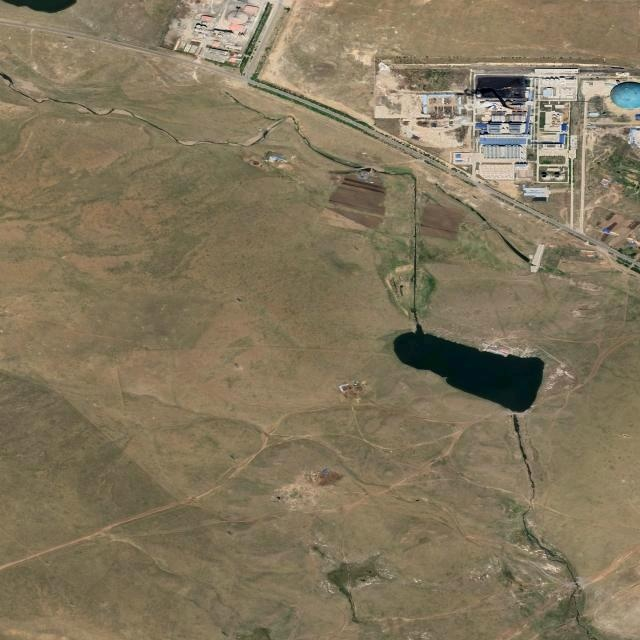coal_fired_power_plant: (470, 62, 577, 184)
